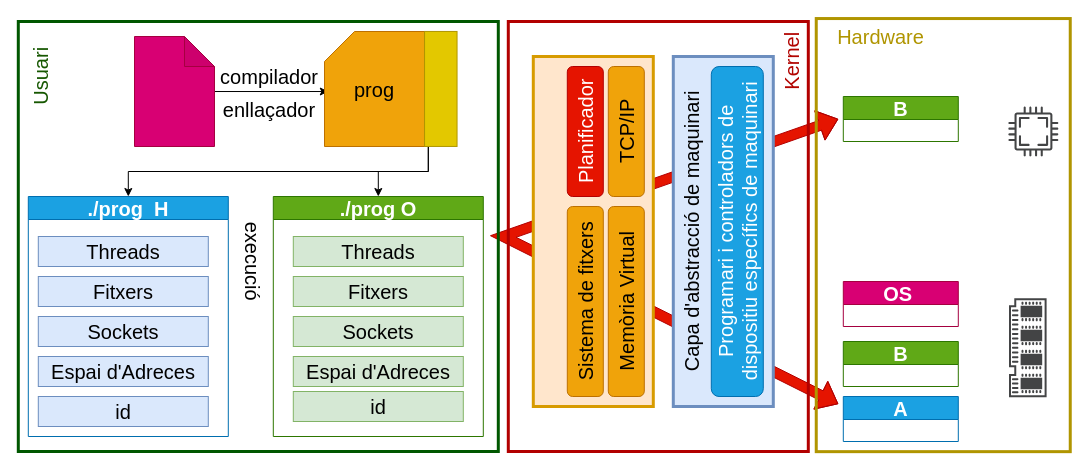
Image size: 1089x471. Some labels were removed from this diagram. Here are the shapes that lost their labels. From the top down, the box of each, then its label:
(134, 36, 214, 146): prog.c
(424, 30, 457, 146): Llibreries
(1008, 106, 1058, 156): Proceador (1 core)
(531, 54, 654, 408): Interfície d'usuari del Kernel
(1008, 298, 1046, 397): Memòria
